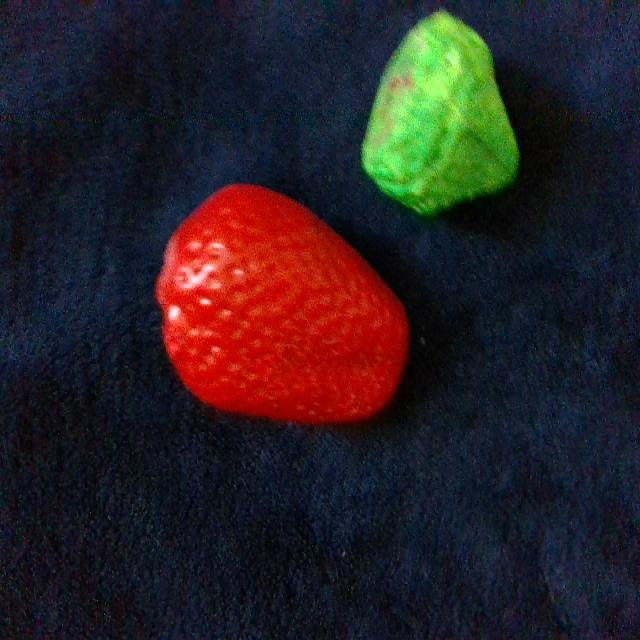grande_roja: (157, 187, 407, 421)
verde: (362, 11, 518, 213)
